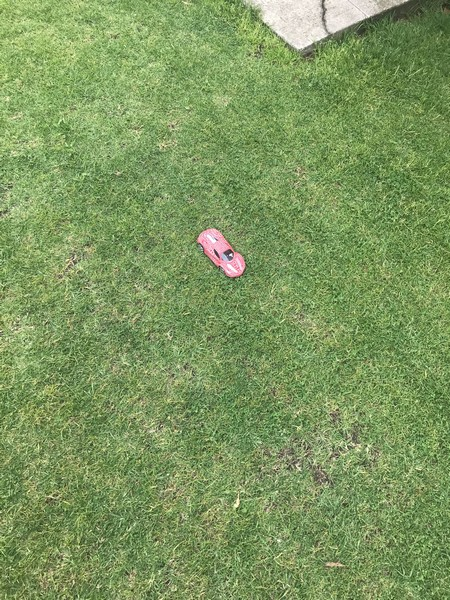RC: (195, 226, 248, 281)
